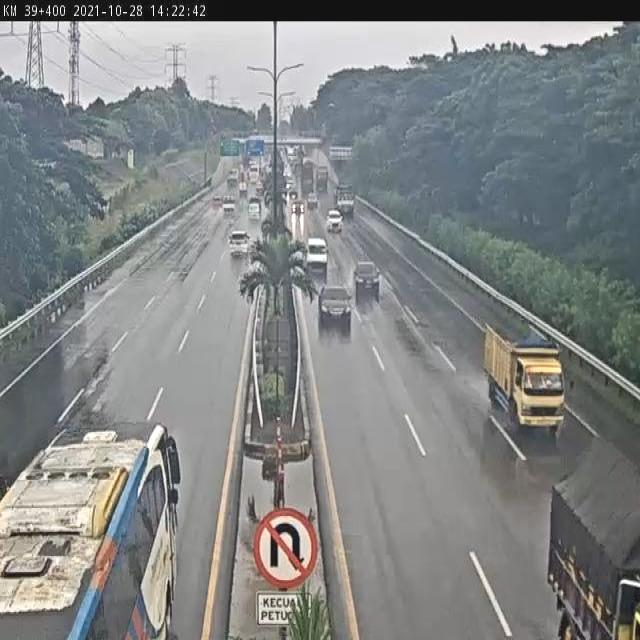Bus: (0, 420, 183, 640)
Car: (317, 284, 354, 329), (352, 258, 386, 299), (222, 228, 250, 262), (326, 212, 344, 236), (306, 192, 321, 213), (292, 196, 306, 216)
Truck: (549, 442, 640, 638), (480, 310, 572, 448)
Van: (306, 237, 329, 277)
